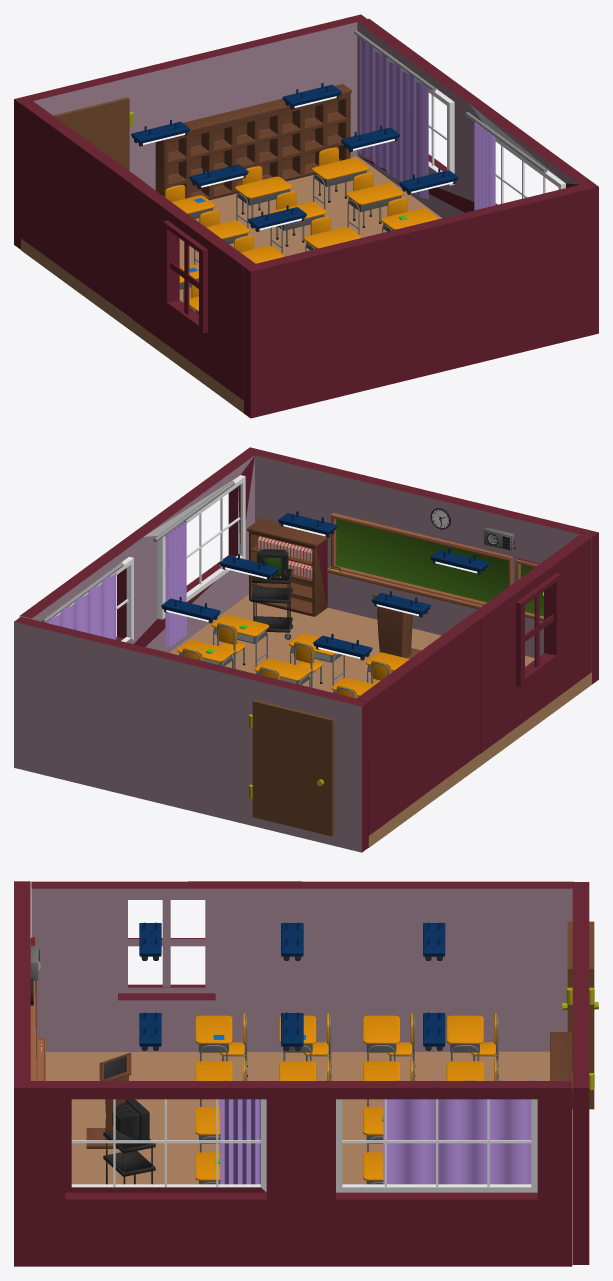
File: class.glb
The picture shows the model from 3 angles, top to bottom: view 1: azimuth 30°, elevation 25°; view 2: azimuth 150°, elevation 25°; view 3: azimuth 270°, elevation 25°; orthographic projection. The views are drawn at different scales.
Parts seen in each view (by area): view 1: demoscene_10; view 2: demoscene_10; view 3: demoscene_10.
Boxes of the visible parts, x1,y1,x2,y2 form: demoscene_10: (14, 14, 598, 418); demoscene_10: (14, 447, 598, 852); demoscene_10: (14, 881, 598, 1266).
Bounding box in the file's own units: 8.91 × 3.54 × 10.51.
Materials: 9 (2 with a texture image).
